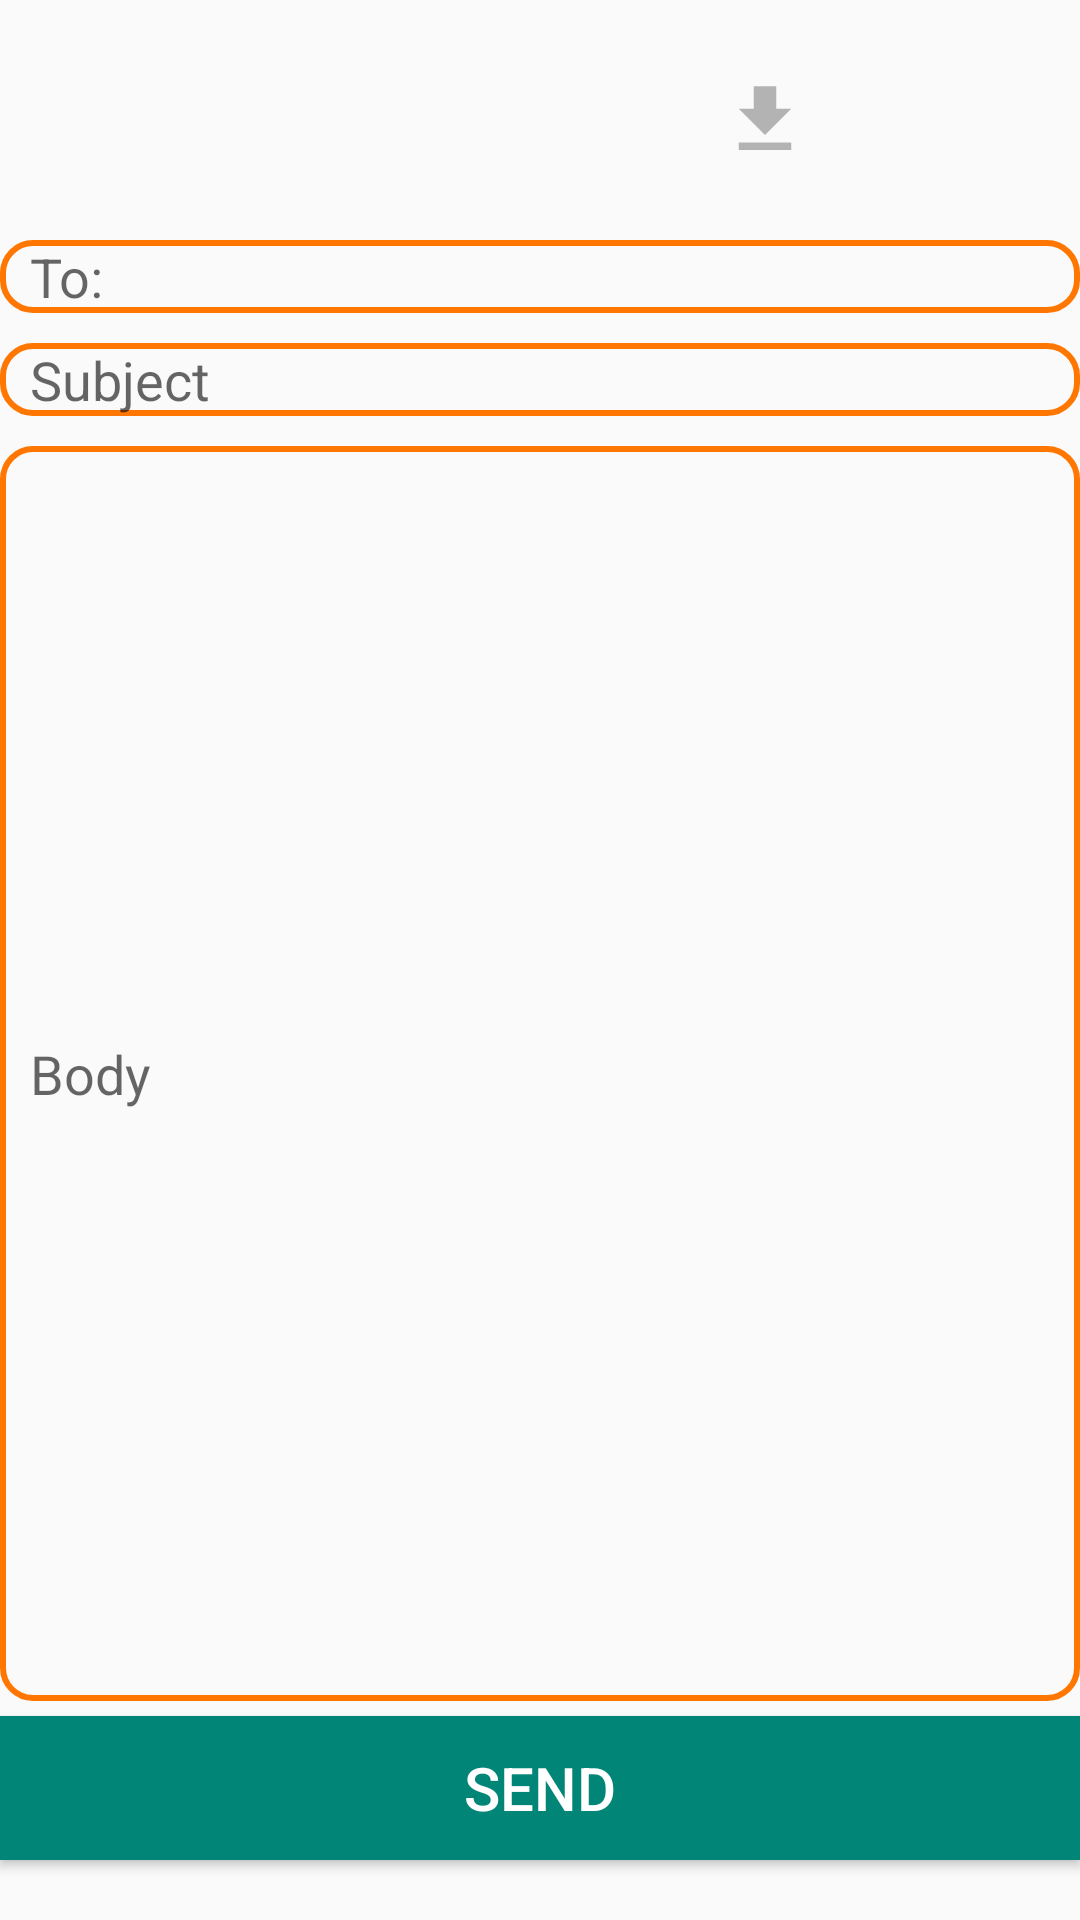

Named icons in this screenshot (1080 × 1920) and their centers, (x,y):
download: (765,118)
